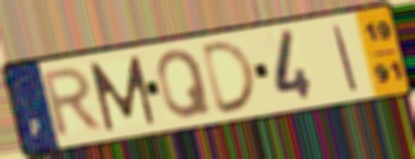4: (271, 26, 319, 105)
D: (199, 37, 261, 118)
I: (330, 22, 361, 93)
M: (86, 52, 159, 134)
Q: (155, 47, 215, 122)
R: (40, 64, 107, 141)
